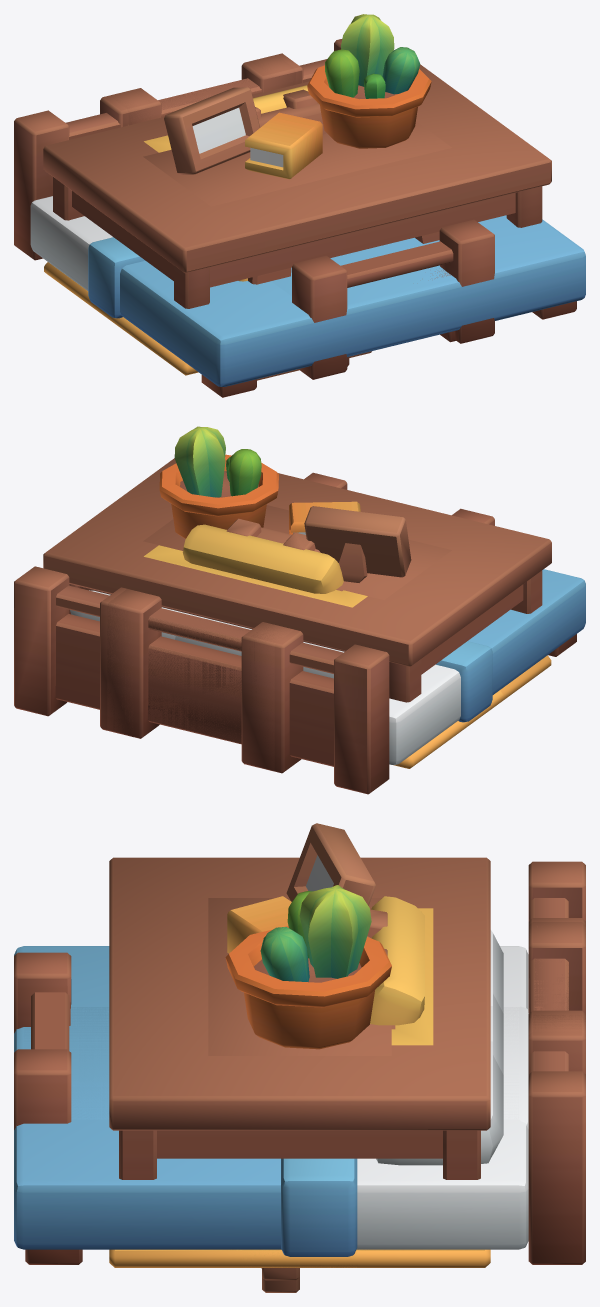
File: furniture.glb
3 views of the same model, one above another, from view 1: azimuth 30°, elevation 25°; view 2: azimuth 150°, elevation 25°; view 3: azimuth 270°, elevation 25° (orthographic). The views are drawn at different scales.
Parts seen in each view (by area): view 1: table_medium_long, bed_double_A, cabinet_medium_decorated, bed_single_B, bed_single_A, rug_rectangle_A, armchair_pillows, chair_B_wood, table_medium; view 2: table_medium_long, bed_double_A, bed_single_A, cabinet_medium_decorated, bed_single_B, armchair_pillows, rug_rectangle_A, chair_A_wood, chair_B_wood; view 3: bed_double_A, table_medium_long, cabinet_medium_decorated, bed_single_B, bed_single_A, armchair_pillows, rug_rectangle_A, rug_oval_A.
Boxes of the visible parts, x1,y1,x2,y2 form: table_medium_long: [43, 64, 551, 308]; bed_double_A: [14, 39, 585, 397]; cabinet_medium_decorated: [143, 14, 451, 206]; bed_single_B: [100, 53, 494, 379]; bed_single_A: [110, 55, 459, 366]; rug_rectangle_A: [44, 262, 198, 375]; armchair_pillows: [144, 85, 308, 281]; chair_B_wood: [249, 93, 326, 152]; table_medium: [248, 231, 439, 284]; table_medium_long: [43, 458, 551, 702]; bed_double_A: [14, 566, 585, 794]; bed_single_A: [107, 589, 293, 771]; cabinet_medium_decorated: [143, 426, 451, 599]; bed_single_B: [100, 472, 494, 773]; armchair_pillows: [144, 524, 367, 607]; rug_rectangle_A: [393, 655, 551, 768]; chair_A_wood: [227, 518, 315, 550]; chair_B_wood: [226, 519, 320, 552]; bed_double_A: [14, 861, 585, 1264]; table_medium_long: [109, 857, 490, 1179]; cabinet_medium_decorated: [208, 823, 391, 1055]; bed_single_B: [14, 918, 585, 1129]; bed_single_A: [16, 922, 585, 1119]; armchair_pillows: [370, 896, 433, 1045]; rug_rectangle_A: [109, 1249, 490, 1267]; rug_oval_A: [236, 1249, 359, 1267].
Size of the model in its own units: 3.1 by 2.43 by 3.
Materials: 2 (2 with a texture image).
